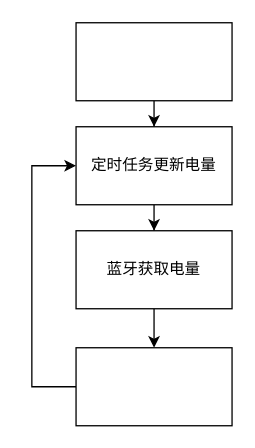
Some shapes in this 255 by 448 pixel diagram are drawn without their labels. Each missing label, with the centre of its shape:
"更新并推送前端" goes at pixel 153 386.
"设备链接" goes at pixel 153 61.
